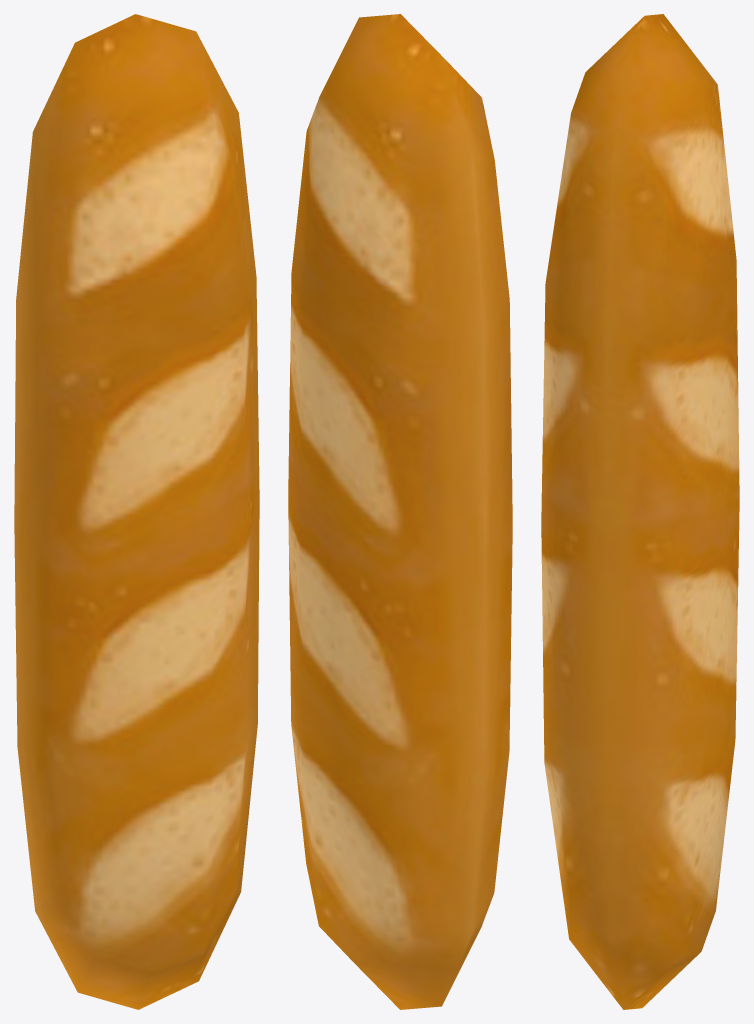
The model's file is brown_baguette.glb.
3 renders of one model, left to right at view 1: azimuth 30°, elevation 25°; view 2: azimuth 150°, elevation 25°; view 3: azimuth 270°, elevation 25°, orthographic.
Visible parts, largest first — view 1: brown_baguette; view 2: brown_baguette; view 3: brown_baguette.
Boxes of the visible parts, box(x1,y1,x2,y2) form: brown_baguette: box(14, 14, 259, 1009); brown_baguette: box(288, 14, 512, 1009); brown_baguette: box(541, 14, 739, 1009).
Size of the model in its own units: 0.2386 by 1.1 by 0.199.
1 material, 1 textured.
